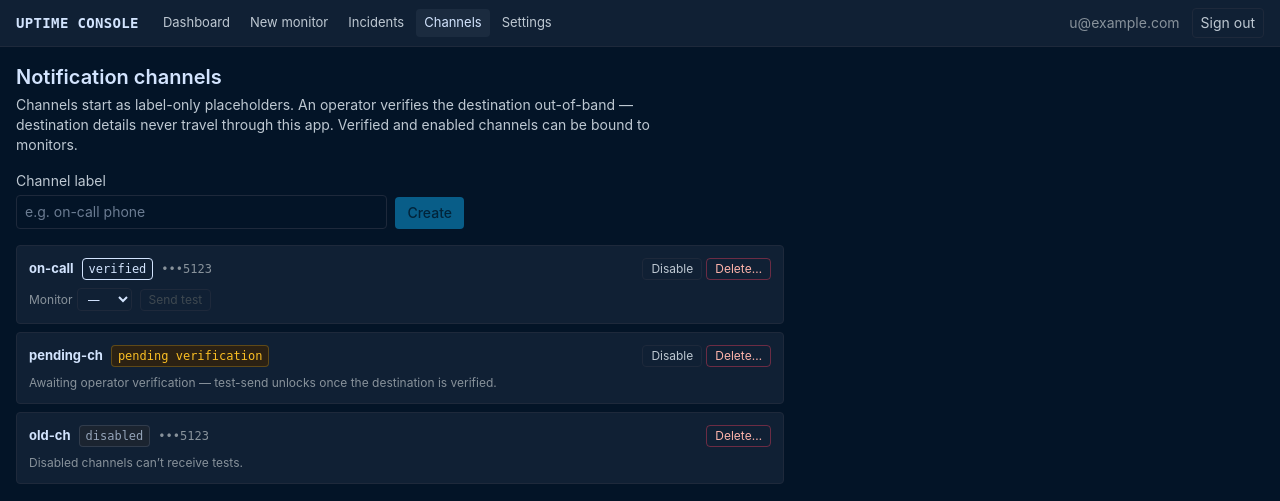
Test: channels page › test-send posts monitor_id and reports queued semantics, not sent
This screenshot has width=1280, height=501.
Select "site" in the dropdown labelled "Monitor" at (104, 300), box [77,288,132,311]
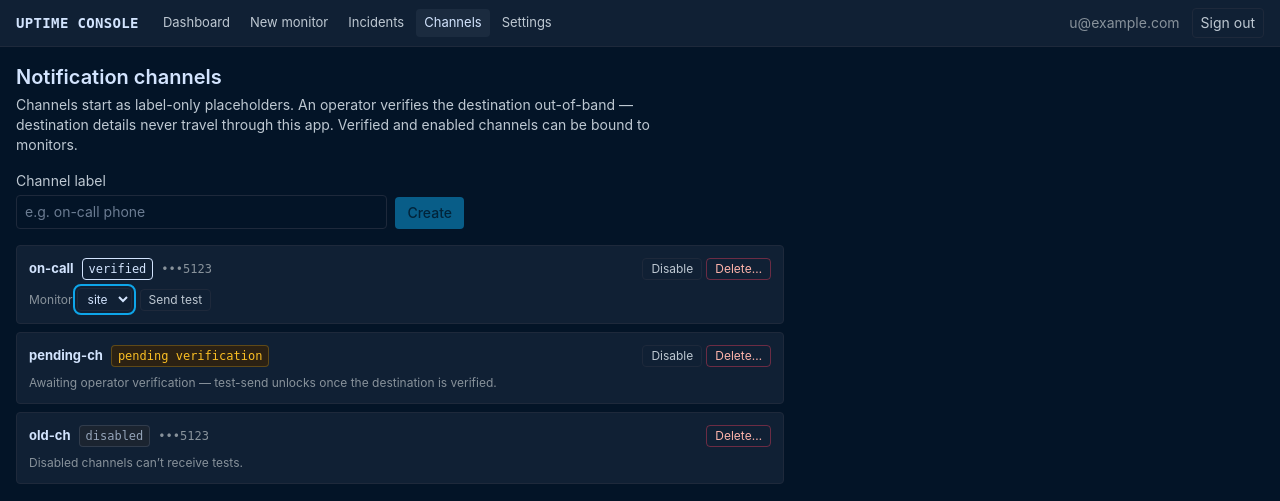
Click the button "Send test" at (175, 300), box [140,288,211,310]
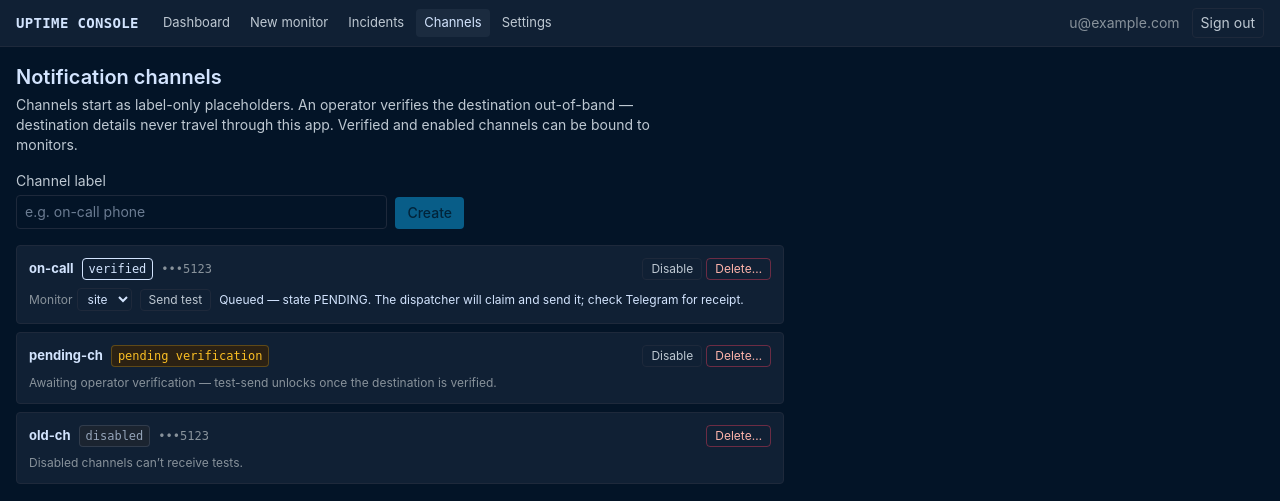
Result: the text "Queued" is shown at [219,292,744,306]
